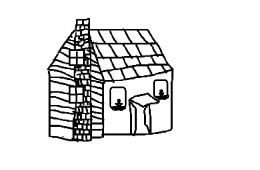chimney: (67, 10, 98, 57)
door: (126, 92, 159, 139)
open_window: (109, 87, 127, 111), (153, 79, 169, 100)
roof: (47, 29, 173, 82)
wall: (100, 68, 176, 139)
